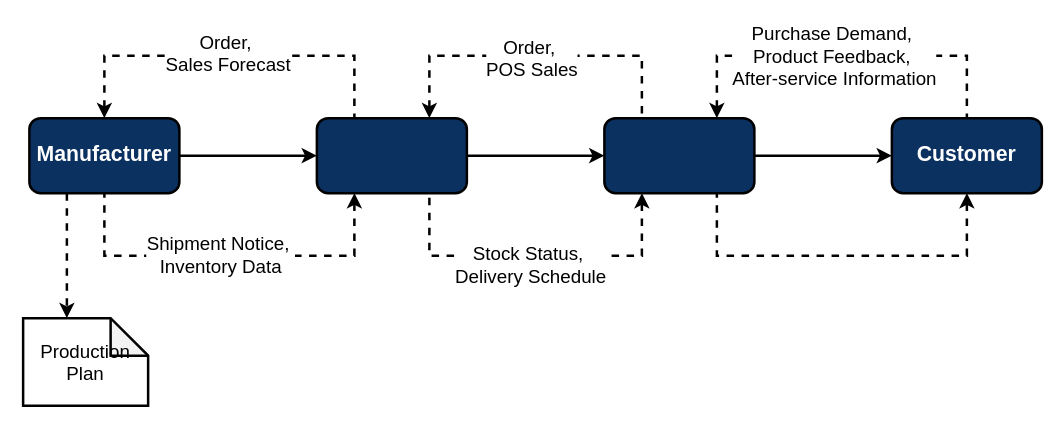
This 1064x429 diagram has some shape labels left out. Each missing label, with the centre of its shape:
"Distributor" goes at [391,155].
"Retailer" goes at [678,155].
